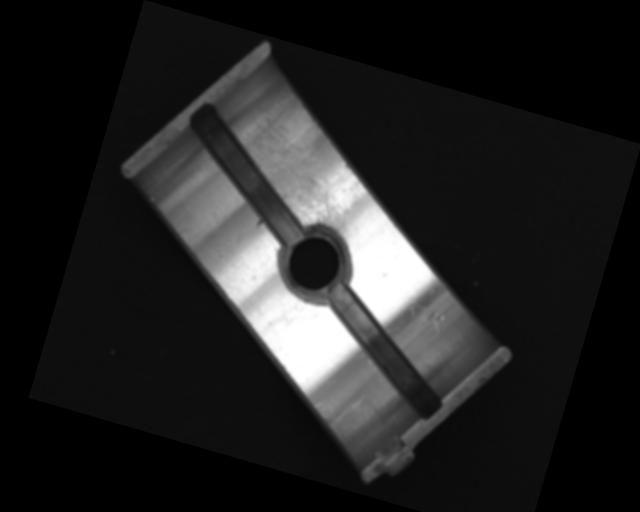bruise: (423, 308, 447, 333), (254, 216, 266, 231)
gap: (164, 101, 331, 249), (306, 283, 463, 421)
hole: (269, 219, 361, 312)
scratch: (223, 87, 386, 250)
